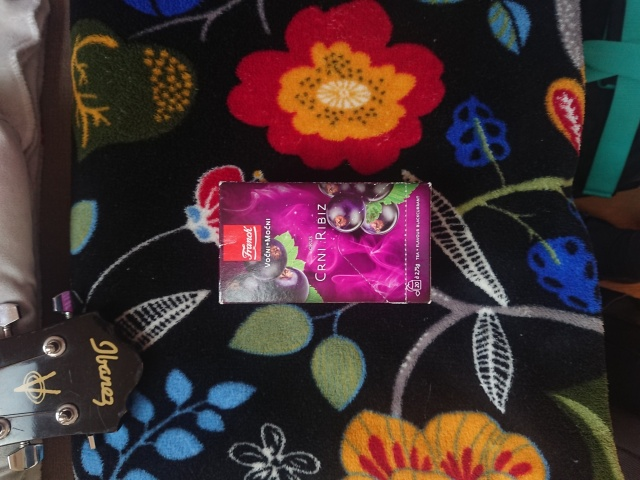Franck Black Currant Tea 60g: (214, 177, 435, 308)
